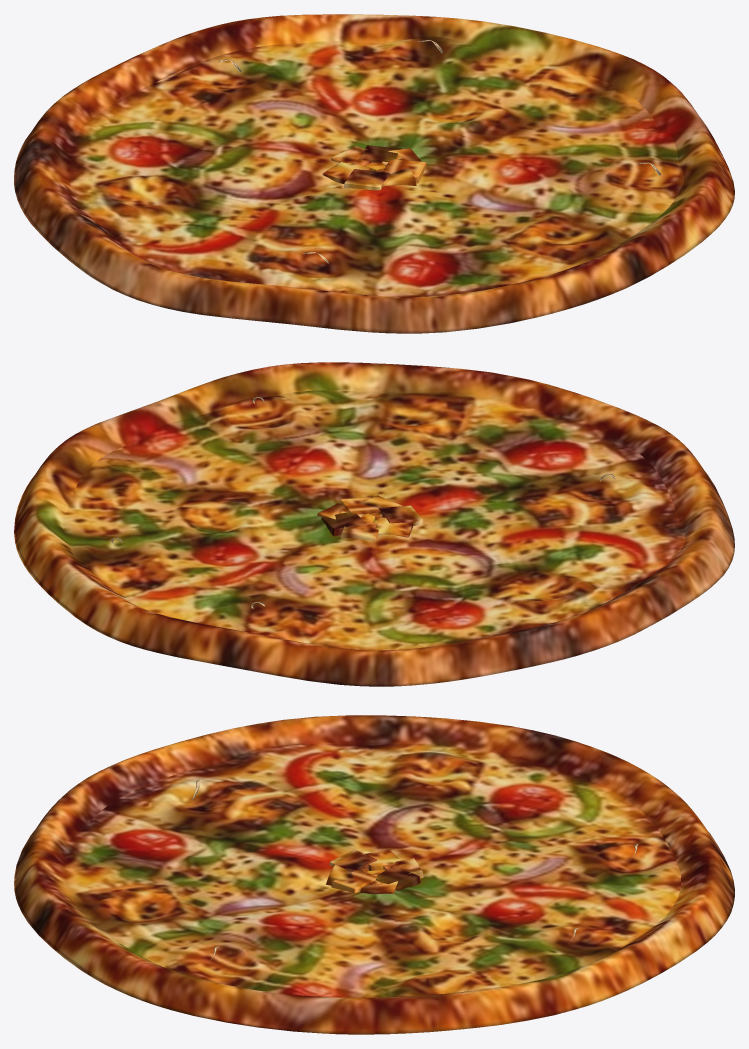
The model's file is tandoori-paneer-pizza-ultralight.glb.
3 renders of one model, top to bottom at view 1: azimuth 30°, elevation 25°; view 2: azimuth 150°, elevation 25°; view 3: azimuth 270°, elevation 25°, orthographic.
Visible parts, largest first — view 1: Pizza_Molten_Mozzarella_Bed, Pizza_Neapolitan_Crust, Paneer_07_BottomLeft, Paneer_05_BottomRight, Paneer_02_TopRight, Paneer_08_MidLeft; view 2: Pizza_Molten_Mozzarella_Bed, Pizza_Neapolitan_Crust, Paneer_02_TopRight, Paneer_07_BottomLeft; view 3: Pizza_Molten_Mozzarella_Bed, Pizza_Neapolitan_Crust, Paneer_02_TopRight, Paneer_07_BottomLeft, Paneer_05_BottomRight.
Part boxes in pixels (<box>): Pizza_Molten_Mozzarella_Bed: <box>67,36,683,296</box>; Pizza_Neapolitan_Crust: <box>14,14,734,333</box>; Paneer_07_BottomLeft: <box>344,169,389,190</box>; Paneer_05_BottomRight: <box>383,159,426,183</box>; Paneer_02_TopRight: <box>359,145,401,162</box>; Paneer_08_MidLeft: <box>322,162,371,183</box>; Pizza_Molten_Mozzarella_Bed: <box>63,390,685,650</box>; Pizza_Neapolitan_Crust: <box>14,362,734,686</box>; Paneer_02_TopRight: <box>321,512,367,536</box>; Paneer_07_BottomLeft: <box>378,505,422,526</box>; Pizza_Molten_Mozzarella_Bed: <box>64,743,680,997</box>; Pizza_Neapolitan_Crust: <box>14,715,734,1034</box>; Paneer_02_TopRight: <box>376,865,420,890</box>; Paneer_07_BottomLeft: <box>329,849,376,871</box>; Paneer_05_BottomRight: <box>331,869,378,893</box>.
Bounding box in the file's own units: 2.37 × 0.127 × 2.37.
11 materials, 3 textured.
